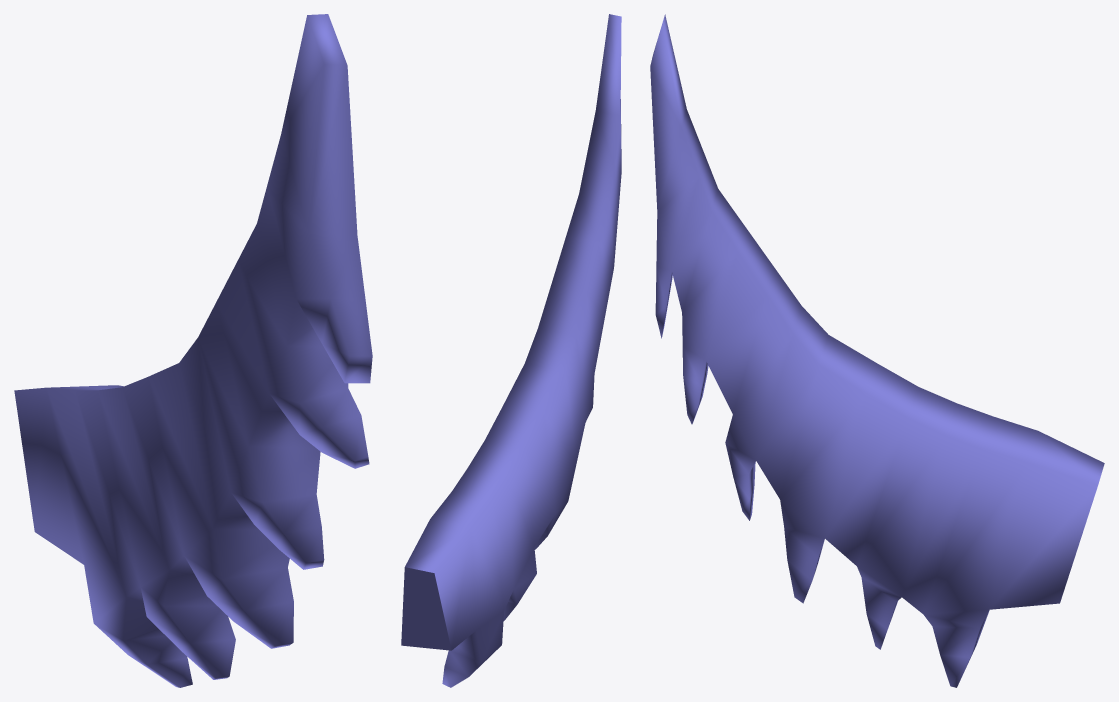
Rendered from Simorgh_Part_3.fbx.
The picture shows the model from 3 angles, left to right: view 1: azimuth 30°, elevation 25°; view 2: azimuth 150°, elevation 25°; view 3: azimuth 270°, elevation 25°; orthographic projection. The views are drawn at different scales.
Parts seen in each view (by area): view 1: Simorgh_Part_008; view 2: Simorgh_Part_008; view 3: Simorgh_Part_008.
Boxes of the visible parts, x1,y1,x2,y2 form: Simorgh_Part_008: (14, 14, 372, 687); Simorgh_Part_008: (401, 14, 621, 687); Simorgh_Part_008: (650, 14, 1104, 687).
Bounding box in the file's own units: 11.06 × 83.11 × 52.71.
